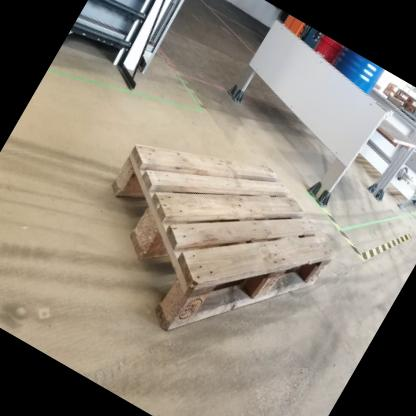BoxFace: (108, 138, 341, 347)
